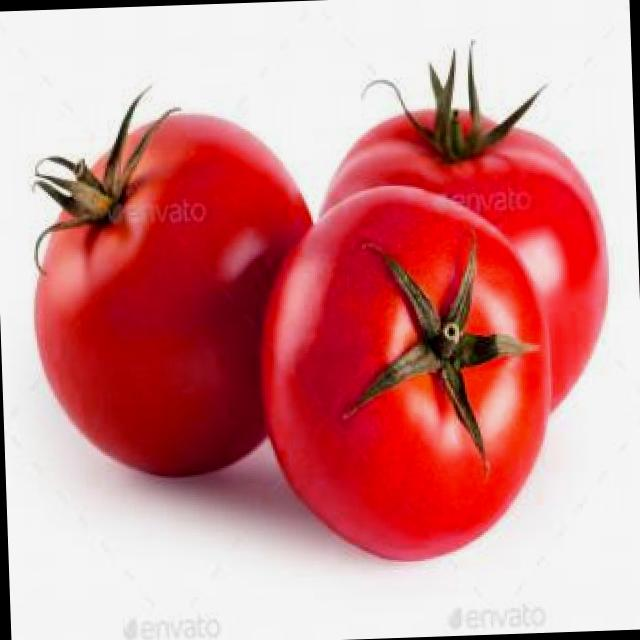Fresh_Tomato: (292, 98, 618, 479), (250, 178, 562, 574), (22, 108, 332, 490)
